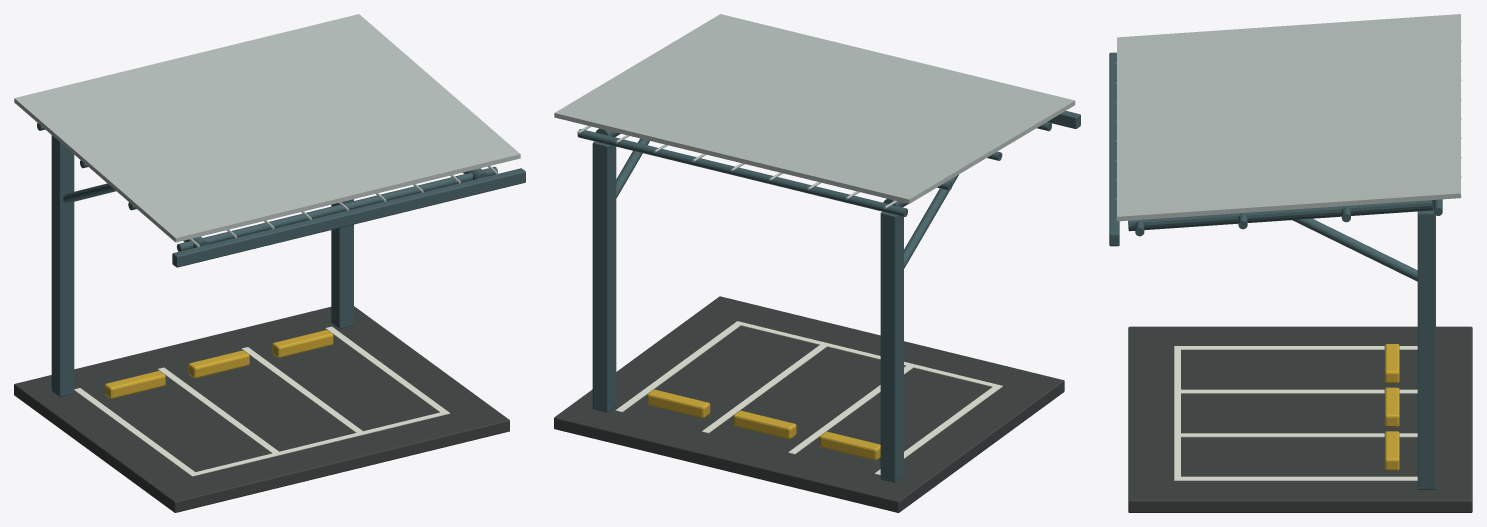
File: covered-motorcycle-parking-reopened-edit.glb
3 renders of one model, left to right at view 1: azimuth 30°, elevation 25°; view 2: azimuth 150°, elevation 25°; view 3: azimuth 270°, elevation 25°, orthographic. The views are drawn at different scales.
Parts seen in each view (by area): view 1: ROOF_Cantilever, SLAB_Parking, COLUMN_-1.5, GUTTER_Front, PURLIN_-1.4, COLUMN_1.5, MARK_Front, STOP_0, STOP_2, STOP_1, MARK_BayLine_0, MARK_BayLine_2 (+2 smaller); view 2: ROOF_Cantilever, SLAB_Parking, COLUMN_1.5, COLUMN_-1.5, PURLIN_1.2, STOP_2, STOP_1, STOP_0, MARK_Front, MARK_BayLine_3, MARK_BayLine_2, BRACE_-1.5 (+2 smaller); view 3: ROOF_Cantilever, SLAB_Parking, COLUMN_1.5, ARM_1.5, GUTTER_Front, BRACE_1.5, MARK_BayLine_3, MARK_BayLine_2, MARK_BayLine_1, MARK_BayLine_0, MARK_Front, STOP_1 (+2 smaller).
Boxes of the visible parts, box(x1,y1,x2,y2) form: ROOF_Cantilever: box(14, 14, 520, 242); SLAB_Parking: box(14, 306, 509, 512); COLUMN_-1.5: box(51, 135, 74, 396); GUTTER_Front: box(172, 168, 525, 267); PURLIN_-1.4: box(176, 166, 497, 251); COLUMN_1.5: box(331, 199, 353, 328); MARK_Front: box(193, 411, 448, 476); STOP_0: box(104, 371, 165, 398); STOP_2: box(272, 330, 333, 357); STOP_1: box(188, 350, 249, 378); MARK_BayLine_0: box(74, 388, 198, 476); MARK_BayLine_2: box(241, 347, 365, 435); ROOF_Cantilever: box(554, 14, 1075, 203); SLAB_Parking: box(554, 296, 1064, 512); COLUMN_1.5: box(592, 141, 616, 412); COLUMN_-1.5: box(880, 211, 903, 482); PURLIN_1.2: box(577, 129, 907, 216); STOP_2: box(647, 389, 710, 418); STOP_1: box(733, 410, 796, 439); STOP_0: box(820, 431, 880, 460); MARK_Front: box(735, 321, 1001, 387); MARK_BayLine_3: box(615, 321, 743, 412); MARK_BayLine_2: box(702, 342, 828, 433); BRACE_-1.5: box(904, 174, 958, 268); ROOF_Cantilever: box(1117, 14, 1460, 221); SLAB_Parking: box(1128, 326, 1472, 512); COLUMN_1.5: box(1417, 206, 1435, 489); ARM_1.5: box(1128, 200, 1432, 231); GUTTER_Front: box(1109, 52, 1119, 246); BRACE_1.5: box(1292, 218, 1417, 281); MARK_BayLine_3: box(1174, 476, 1417, 480); MARK_BayLine_2: box(1174, 433, 1417, 437); MARK_BayLine_1: box(1174, 389, 1417, 393); MARK_BayLine_0: box(1174, 346, 1417, 349); MARK_Front: box(1174, 346, 1180, 476); STOP_1: box(1384, 387, 1399, 427).
Size of the model in its own units: 3.75 by 3.1 by 3.17.
